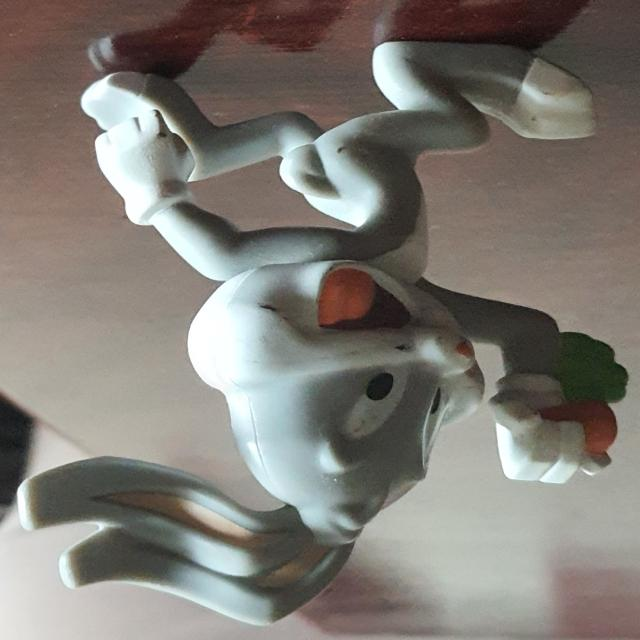Rabbit: (15, 39, 628, 626)
